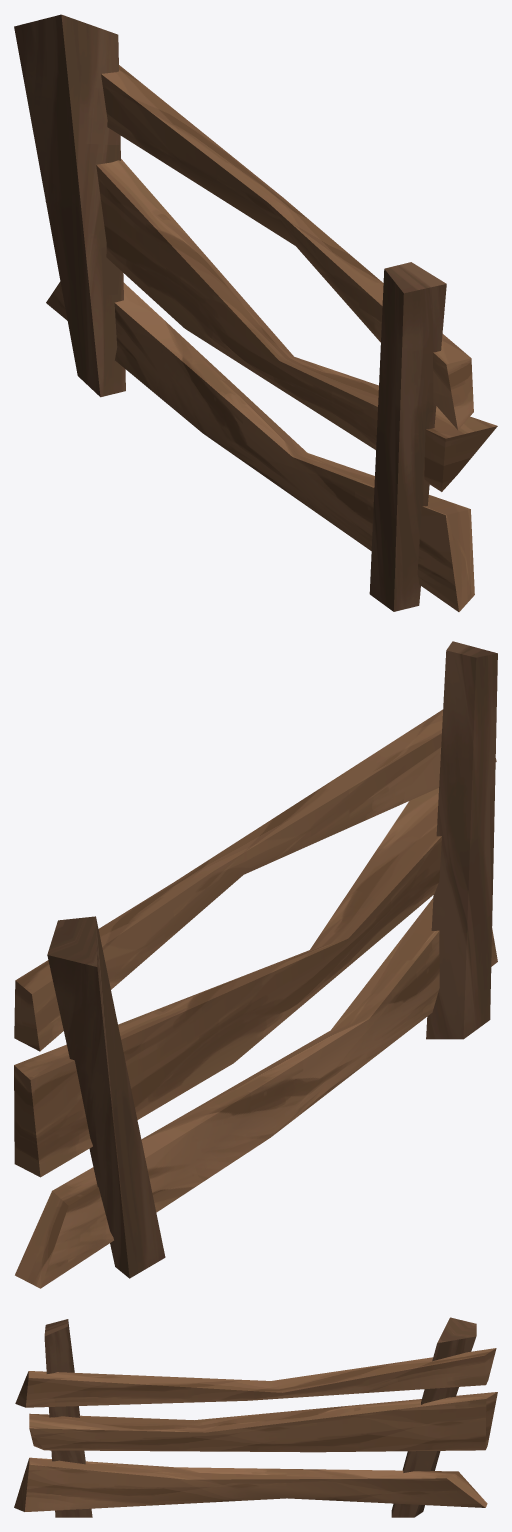
The model's file is Fence_4.fbx.
3 renders of one model, top to bottom at view 1: azimuth 30°, elevation 25°; view 2: azimuth 150°, elevation 25°; view 3: azimuth 270°, elevation 25°, orthographic. The views are drawn at different scales.
Visible parts, largest first — view 1: _Fence_4; view 2: _Fence_4; view 3: _Fence_4.
Part boxes in pixels (left/top/right/bottom): _Fence_4: left=14, top=14, right=497, bottom=611; _Fence_4: left=14, top=641, right=497, bottom=1288; _Fence_4: left=14, top=1317, right=497, bottom=1517.
Bounding box in the file's own units: 33.24 × 109 × 243.
